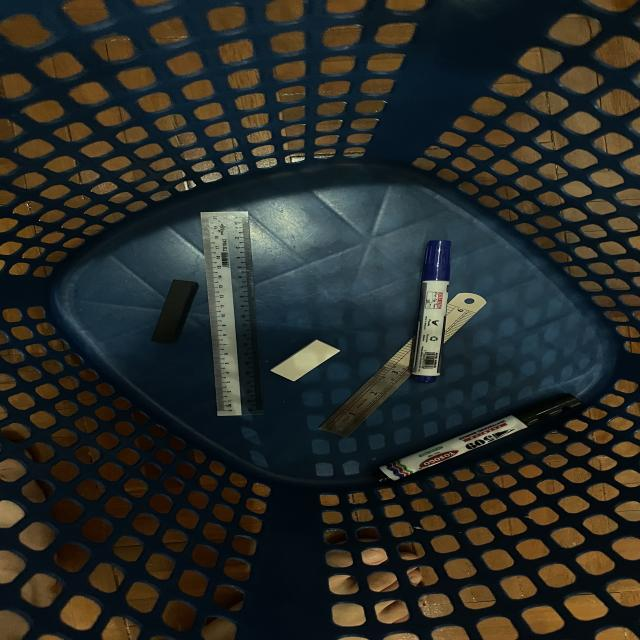eraser: (151, 280, 198, 343), (271, 340, 339, 381)
marker: (376, 394, 582, 482), (412, 241, 451, 383)
ruler: (201, 211, 262, 417), (320, 338, 414, 437), (443, 293, 486, 343)
